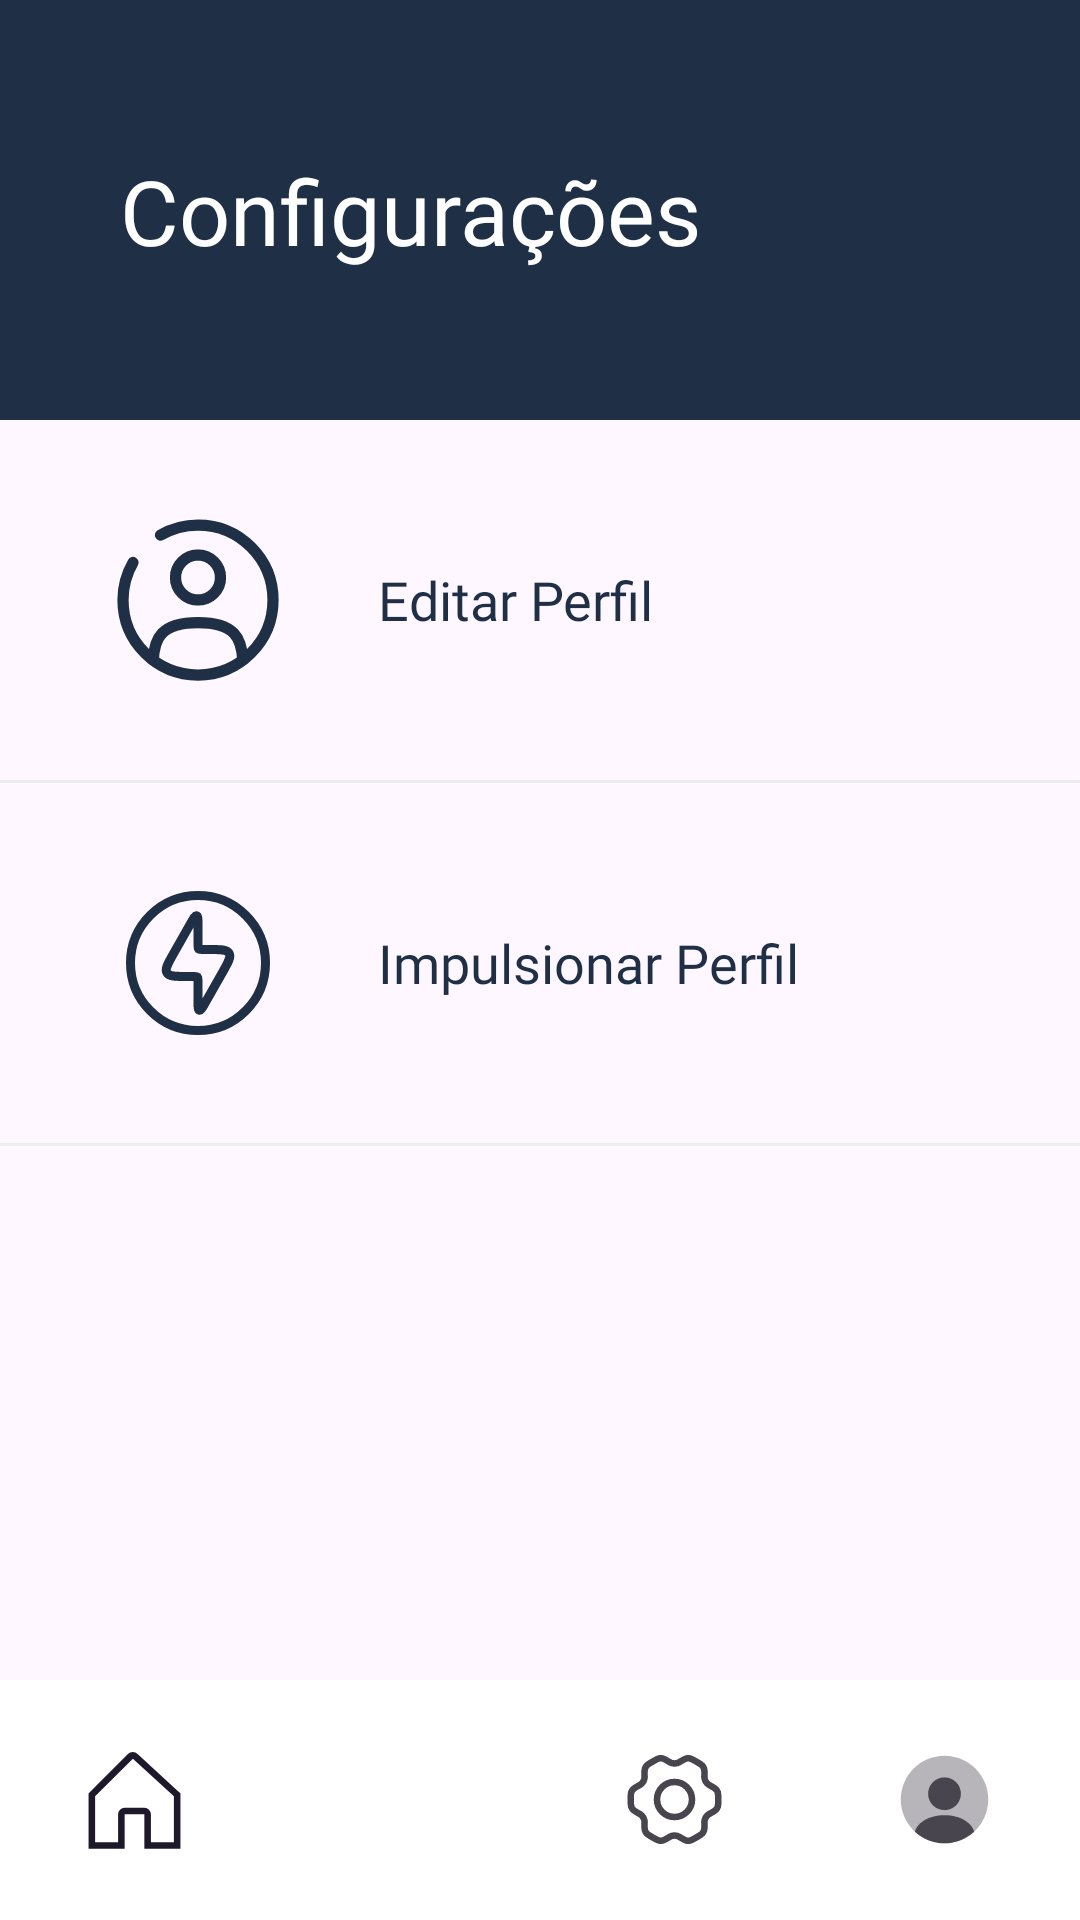

Where to tap for icons on this 1080×1920 app screen, as (x,y):
raio: (198,963)
user: (198,600)
